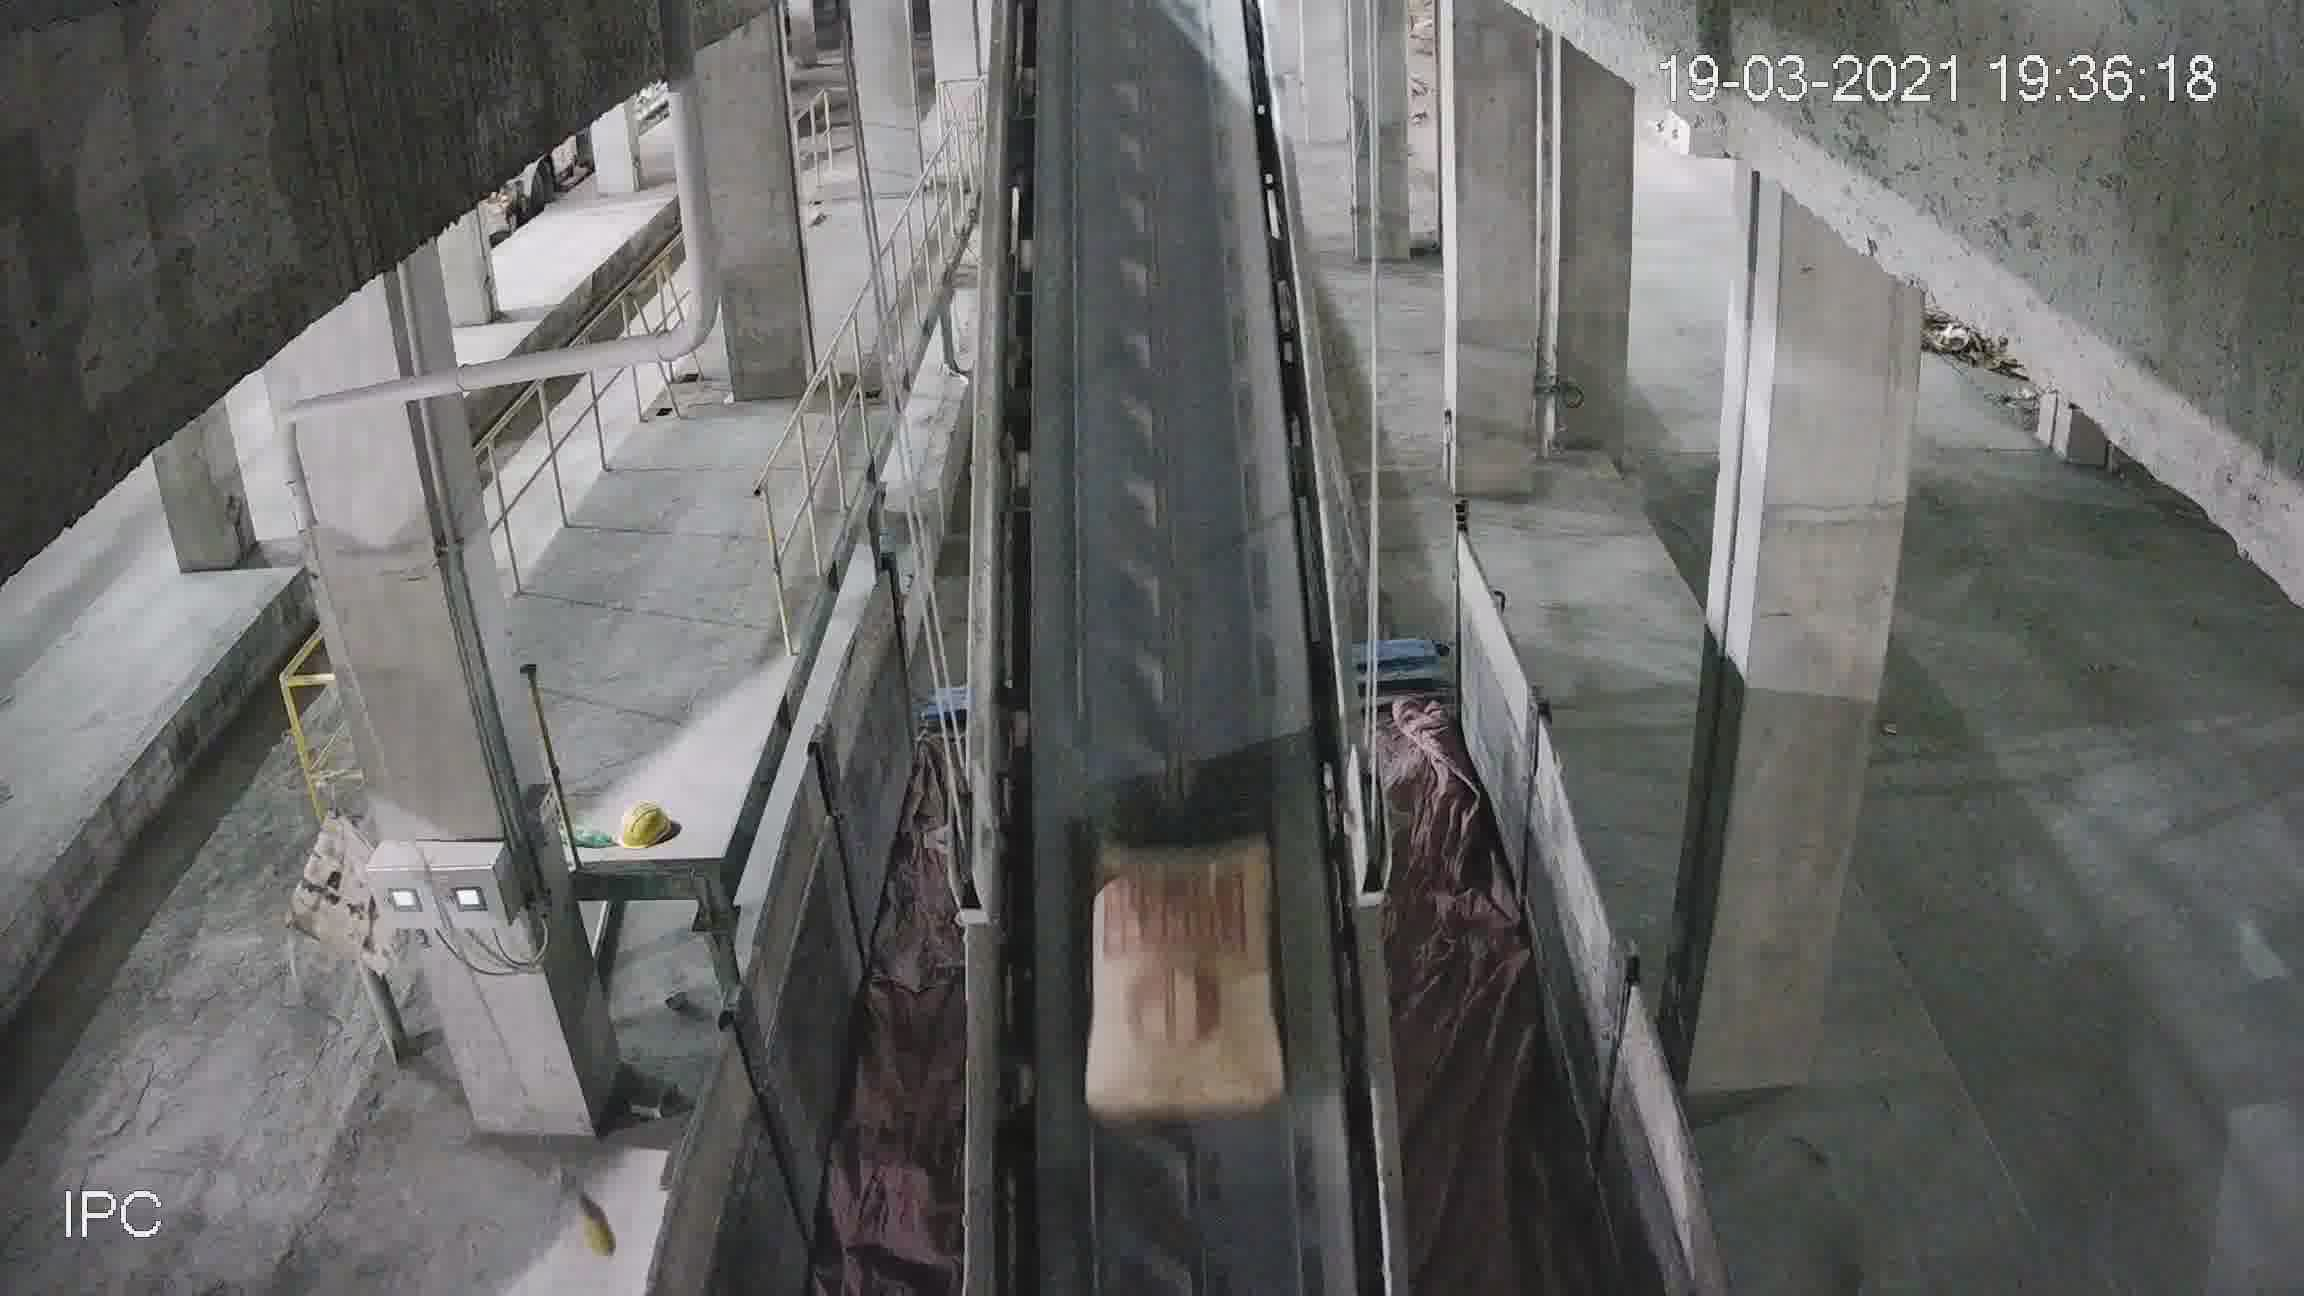bag: (1089, 831, 1283, 1120)
belt: (962, 52, 1396, 1249)
